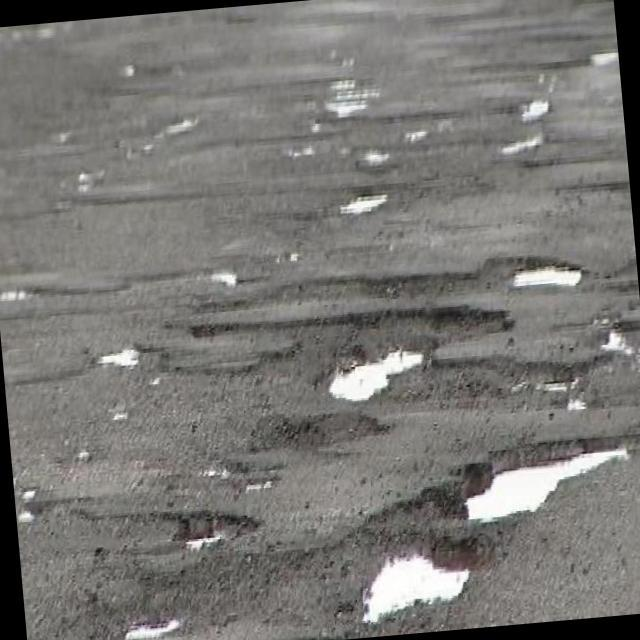Pothole: (465, 449, 624, 520), (364, 555, 468, 621), (329, 348, 423, 402), (511, 266, 579, 289), (186, 516, 223, 552), (126, 617, 181, 640), (500, 136, 542, 158), (339, 194, 387, 213), (101, 350, 139, 367), (210, 270, 236, 289), (202, 466, 230, 481), (522, 102, 548, 118), (364, 153, 387, 165), (225, 514, 232, 526)
